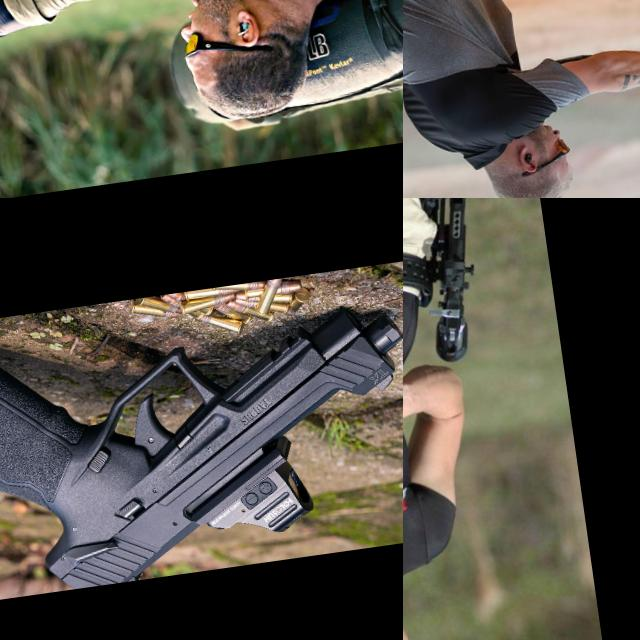handgun: (0, 281, 403, 609), (403, 395, 467, 494), (0, 63, 49, 117)
